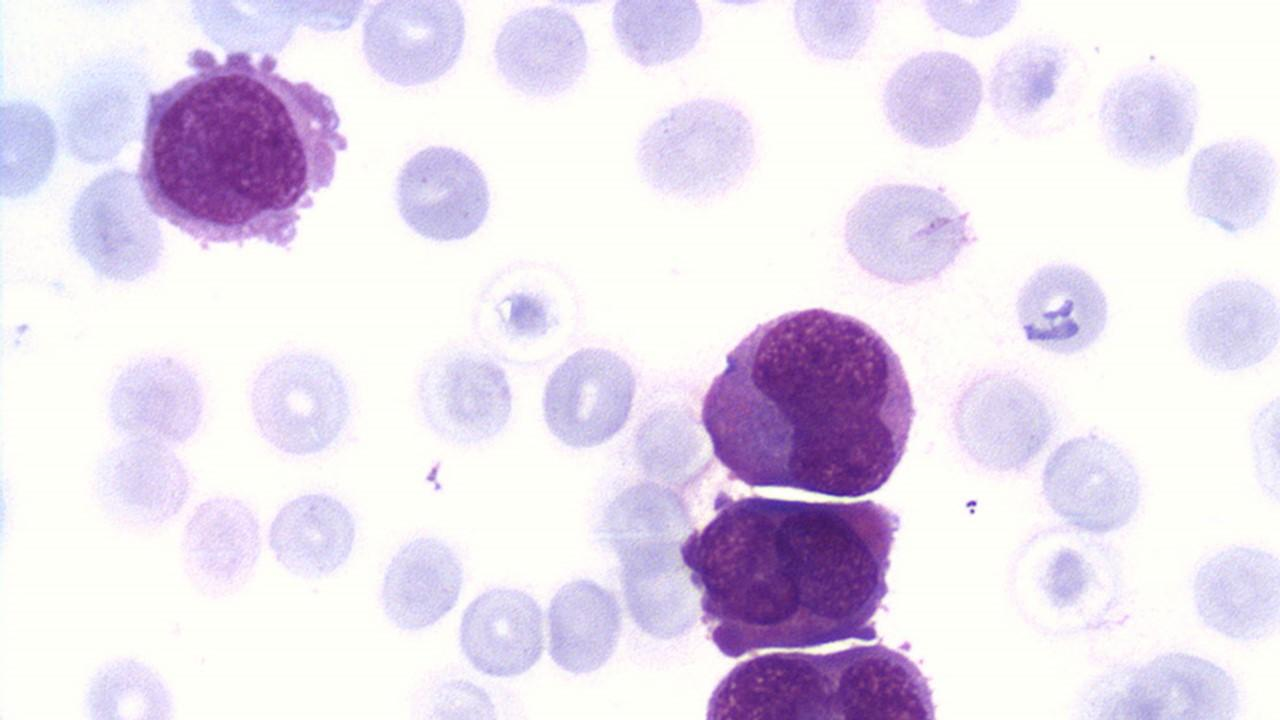RBC: (827, 168, 985, 303), (623, 84, 772, 215), (238, 334, 370, 470), (1002, 520, 1144, 646), (58, 160, 174, 296), (1057, 640, 1261, 717), (95, 334, 222, 456), (1089, 52, 1209, 178), (383, 132, 503, 252), (1036, 422, 1156, 539), (944, 360, 1059, 482), (472, 255, 593, 370), (405, 335, 518, 456), (874, 42, 990, 158), (984, 27, 1095, 145), (82, 432, 201, 542), (536, 334, 640, 459), (484, 0, 600, 110), (1173, 266, 1280, 382), (1008, 251, 1118, 363), (353, 0, 476, 100), (370, 523, 474, 641), (261, 480, 370, 588), (1178, 130, 1280, 244), (174, 486, 270, 606), (1182, 531, 1278, 650), (453, 576, 550, 680), (544, 567, 624, 681), (394, 660, 542, 718), (1, 83, 67, 213), (604, 1, 716, 77), (72, 646, 183, 720), (782, 6, 892, 70), (1242, 371, 1280, 528), (900, 1, 1034, 41)
WBC: (130, 36, 354, 262), (694, 294, 926, 503), (687, 485, 894, 652), (696, 632, 952, 717)
